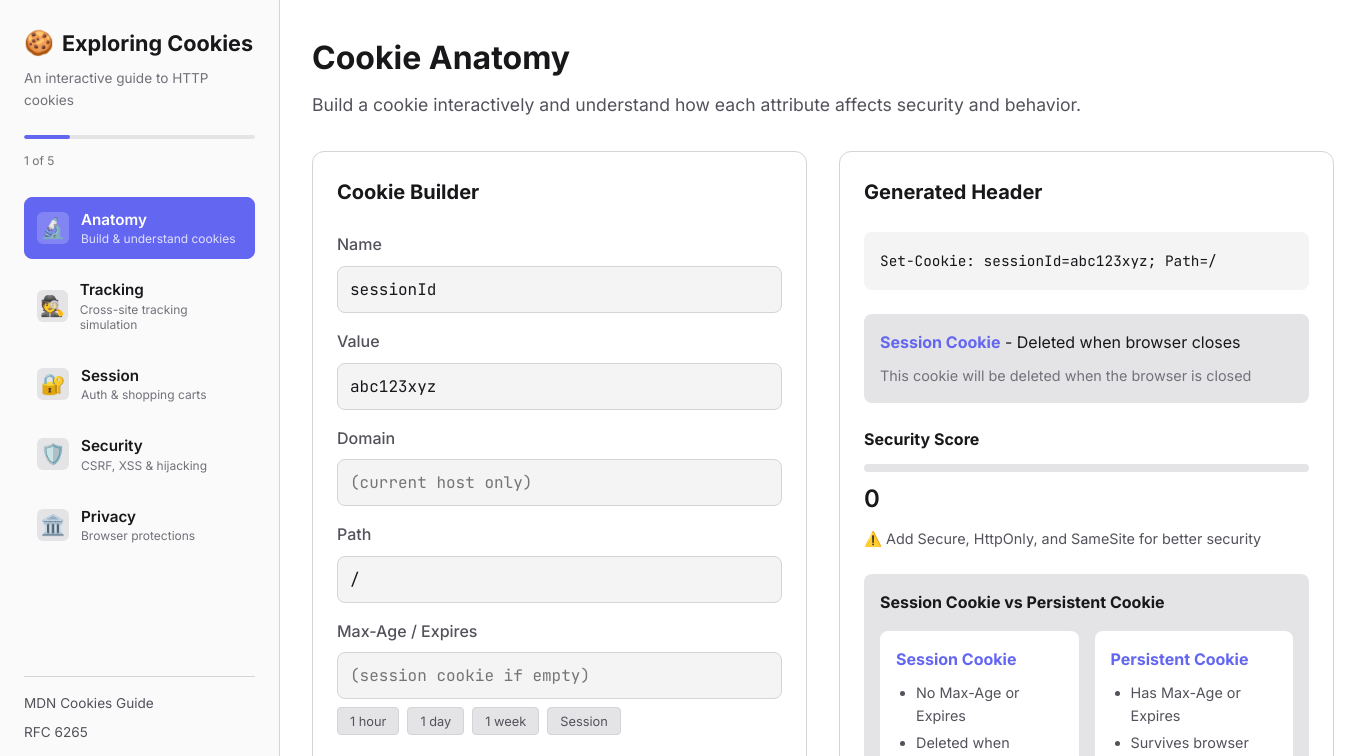
Test: App › can navigate to session section
This screenshot has width=1366, height=756.
Step 1. Click the text "Session" → (110, 375), box [81,366,139,385]
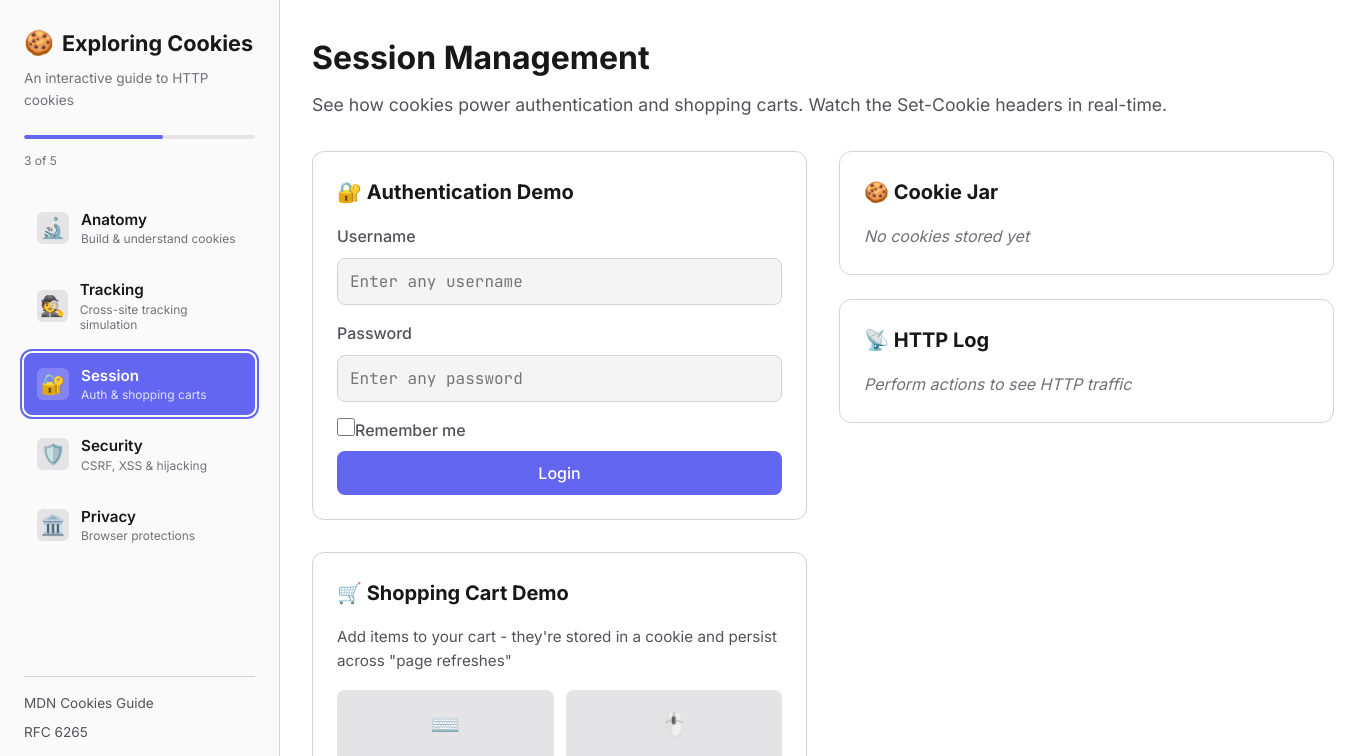
Result: the heading "Session Management" is shown at [312,38,650,77]
